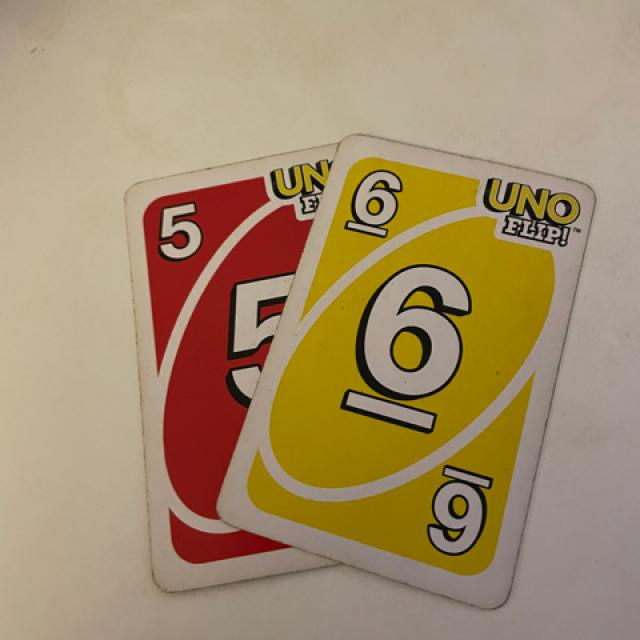lred-5: (141, 189, 227, 267)
lyellow-6: (339, 157, 419, 251)
